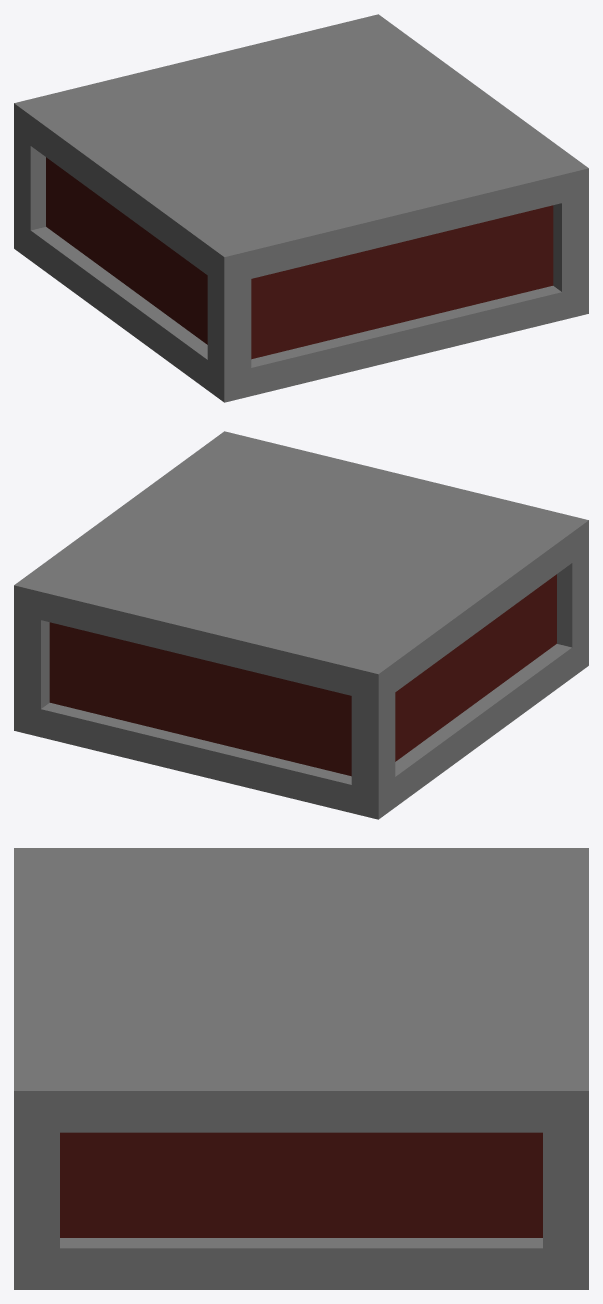
The model's file is Cajita.fbx.
3 views of the same model, one above another, from view 1: azimuth 30°, elevation 25°; view 2: azimuth 150°, elevation 25°; view 3: azimuth 270°, elevation 25° (orthographic). The views are drawn at different scales.
Parts seen in each view (by area): view 1: Box001; view 2: Box001; view 3: Box001.
Boxes of the visible parts, x1,y1,x2,y2 form: Box001: (14,14,588,402); Box001: (14,431,588,819); Box001: (14,848,588,1289).
Size of the model in its own units: 28.5 by 10.87 by 28.5.
